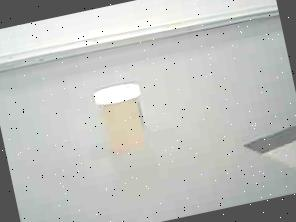Bottle B: (86, 70, 158, 166)
